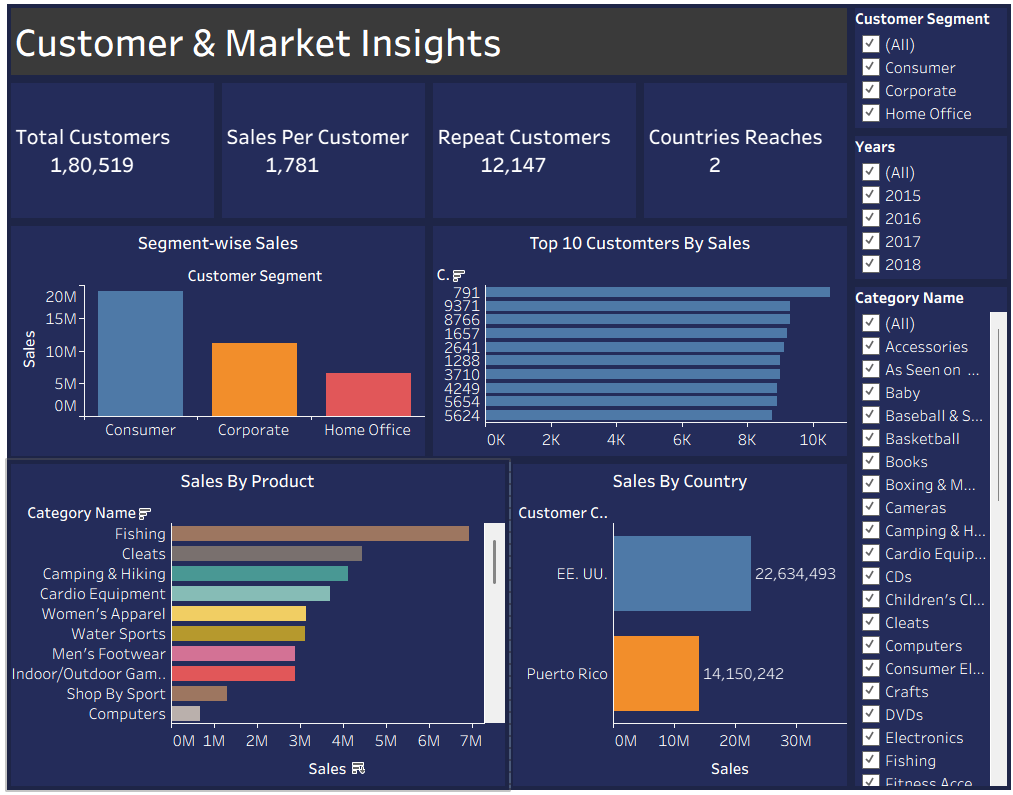

The page's visual inventory and layout, read from the dashboard file:
{"tool":"tableau","page":{"name":"Dashboard 3","canvas":[1000,1000],"units":"permille","ordinal":2},"visuals":[{"type":"text","box":[7.8,10,827.5,93.5]},{"type":"filter","title":"Segment-wise Sales","param":"[federated.0d3o7rv0djwa3w19wdp9q05zq79m].[none:Customer Segment:nk]","box":[835.3,10,156.9,159.6]},{"type":"worksheet","title":"Total Customers","mark":"Automatic","box":[7.8,103.5,206.9,178.3]},{"type":"worksheet","title":"Sales per cutomer","mark":"Automatic","box":[214.7,103.5,206.9,178.3]},{"type":"worksheet","title":"Repeat customers","mark":"Automatic","box":[421.6,103.5,206.9,178.3]},{"type":"worksheet","title":"Countries Reaches","mark":"Automatic","box":[628.4,103.5,206.9,178.3]},{"type":"filter","title":"Sales By Country","param":"[federated.0d3o7rv0djwa3w19wdp9q05zq79m].[yr:order date (DateOrders):ok]","box":[835.3,169.6,156.9,188.3]},{"type":"worksheet","title":"Segment-wise Sales","mark":"Automatic","rows":["Sales"],"cols":["Customer Segment"],"box":[7.8,281.8,413.7,296.8]},{"type":"worksheet","title":"Top 10 Customters By Sales","mark":"Automatic","rows":["Customer Id"],"cols":["Sales"],"box":[421.6,281.8,413.7,296.8]},{"type":"filter","title":"Sales By Product","param":"[federated.0d3o7rv0djwa3w19wdp9q05zq79m].[none:Category Name:nk]","box":[835.3,357.9,156.9,632.1]},{"type":"worksheet","title":"Sales By Product","mark":"Automatic","rows":["Category Name"],"cols":["Sales"],"box":[7.8,578.6,492.2,411.5]},{"type":"worksheet","title":"Sales By Country","mark":"Automatic","rows":["Customer Country"],"cols":["Sales"],"box":[500,578.6,335.3,411.5]}]}

Visuals, with their boxes on the dashboard's canvas, which has no fixed pixel size, in thousandths of its width and height (x1, y1, x2, y2). These are canvas units, not pixel positions in the 1013x795 screenshot, which may show the page scaled, cropped or inside an application window:
text: 8/10/835/104
"Segment-wise Sales" filter: 835/10/992/170
"Total Customers" worksheet: 8/104/215/282
"Sales per cutomer" worksheet: 215/104/422/282
"Repeat customers" worksheet: 422/104/628/282
"Countries Reaches" worksheet: 628/104/835/282
"Sales By Country" filter: 835/170/992/358
"Segment-wise Sales" worksheet: 8/282/422/579
"Top 10 Customters By Sales" worksheet: 422/282/835/579
"Sales By Product" filter: 835/358/992/990
"Sales By Product" worksheet: 8/579/500/990
"Sales By Country" worksheet: 500/579/835/990
